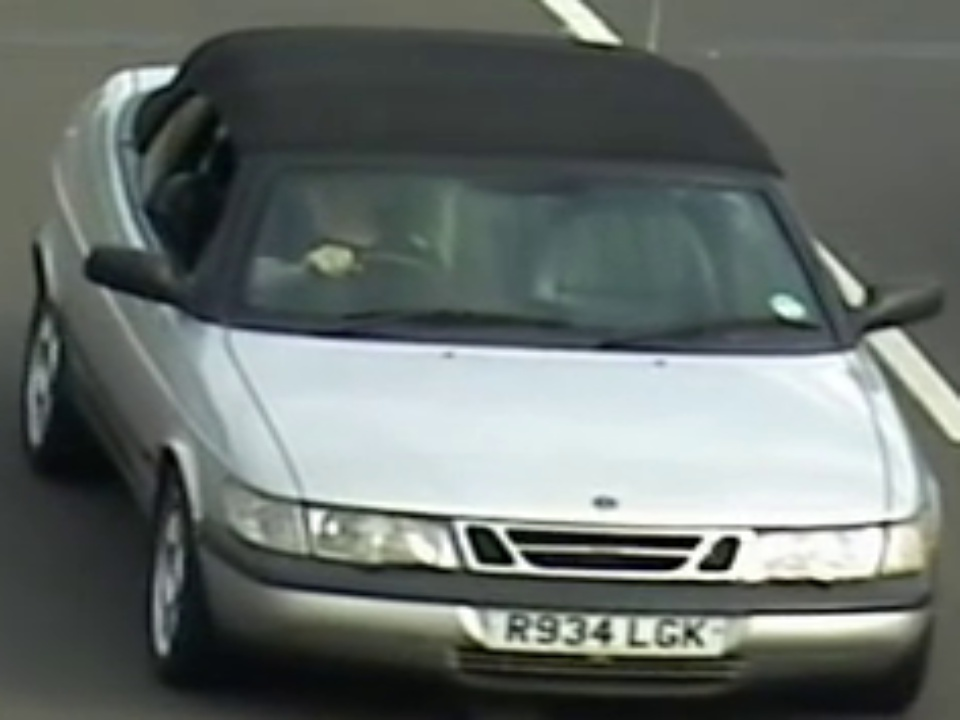ONE: (251, 172, 807, 345)
